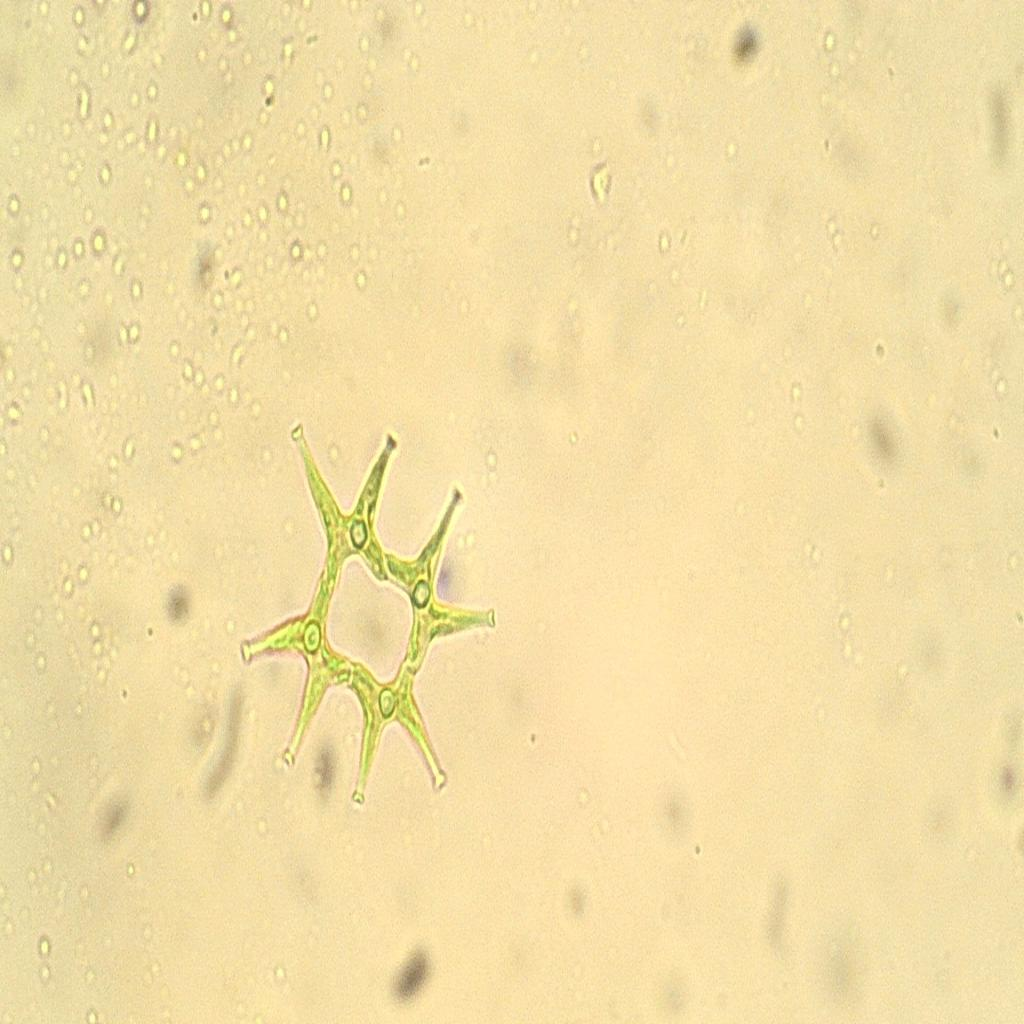Pediastrum_CO: (239, 399, 510, 834)
